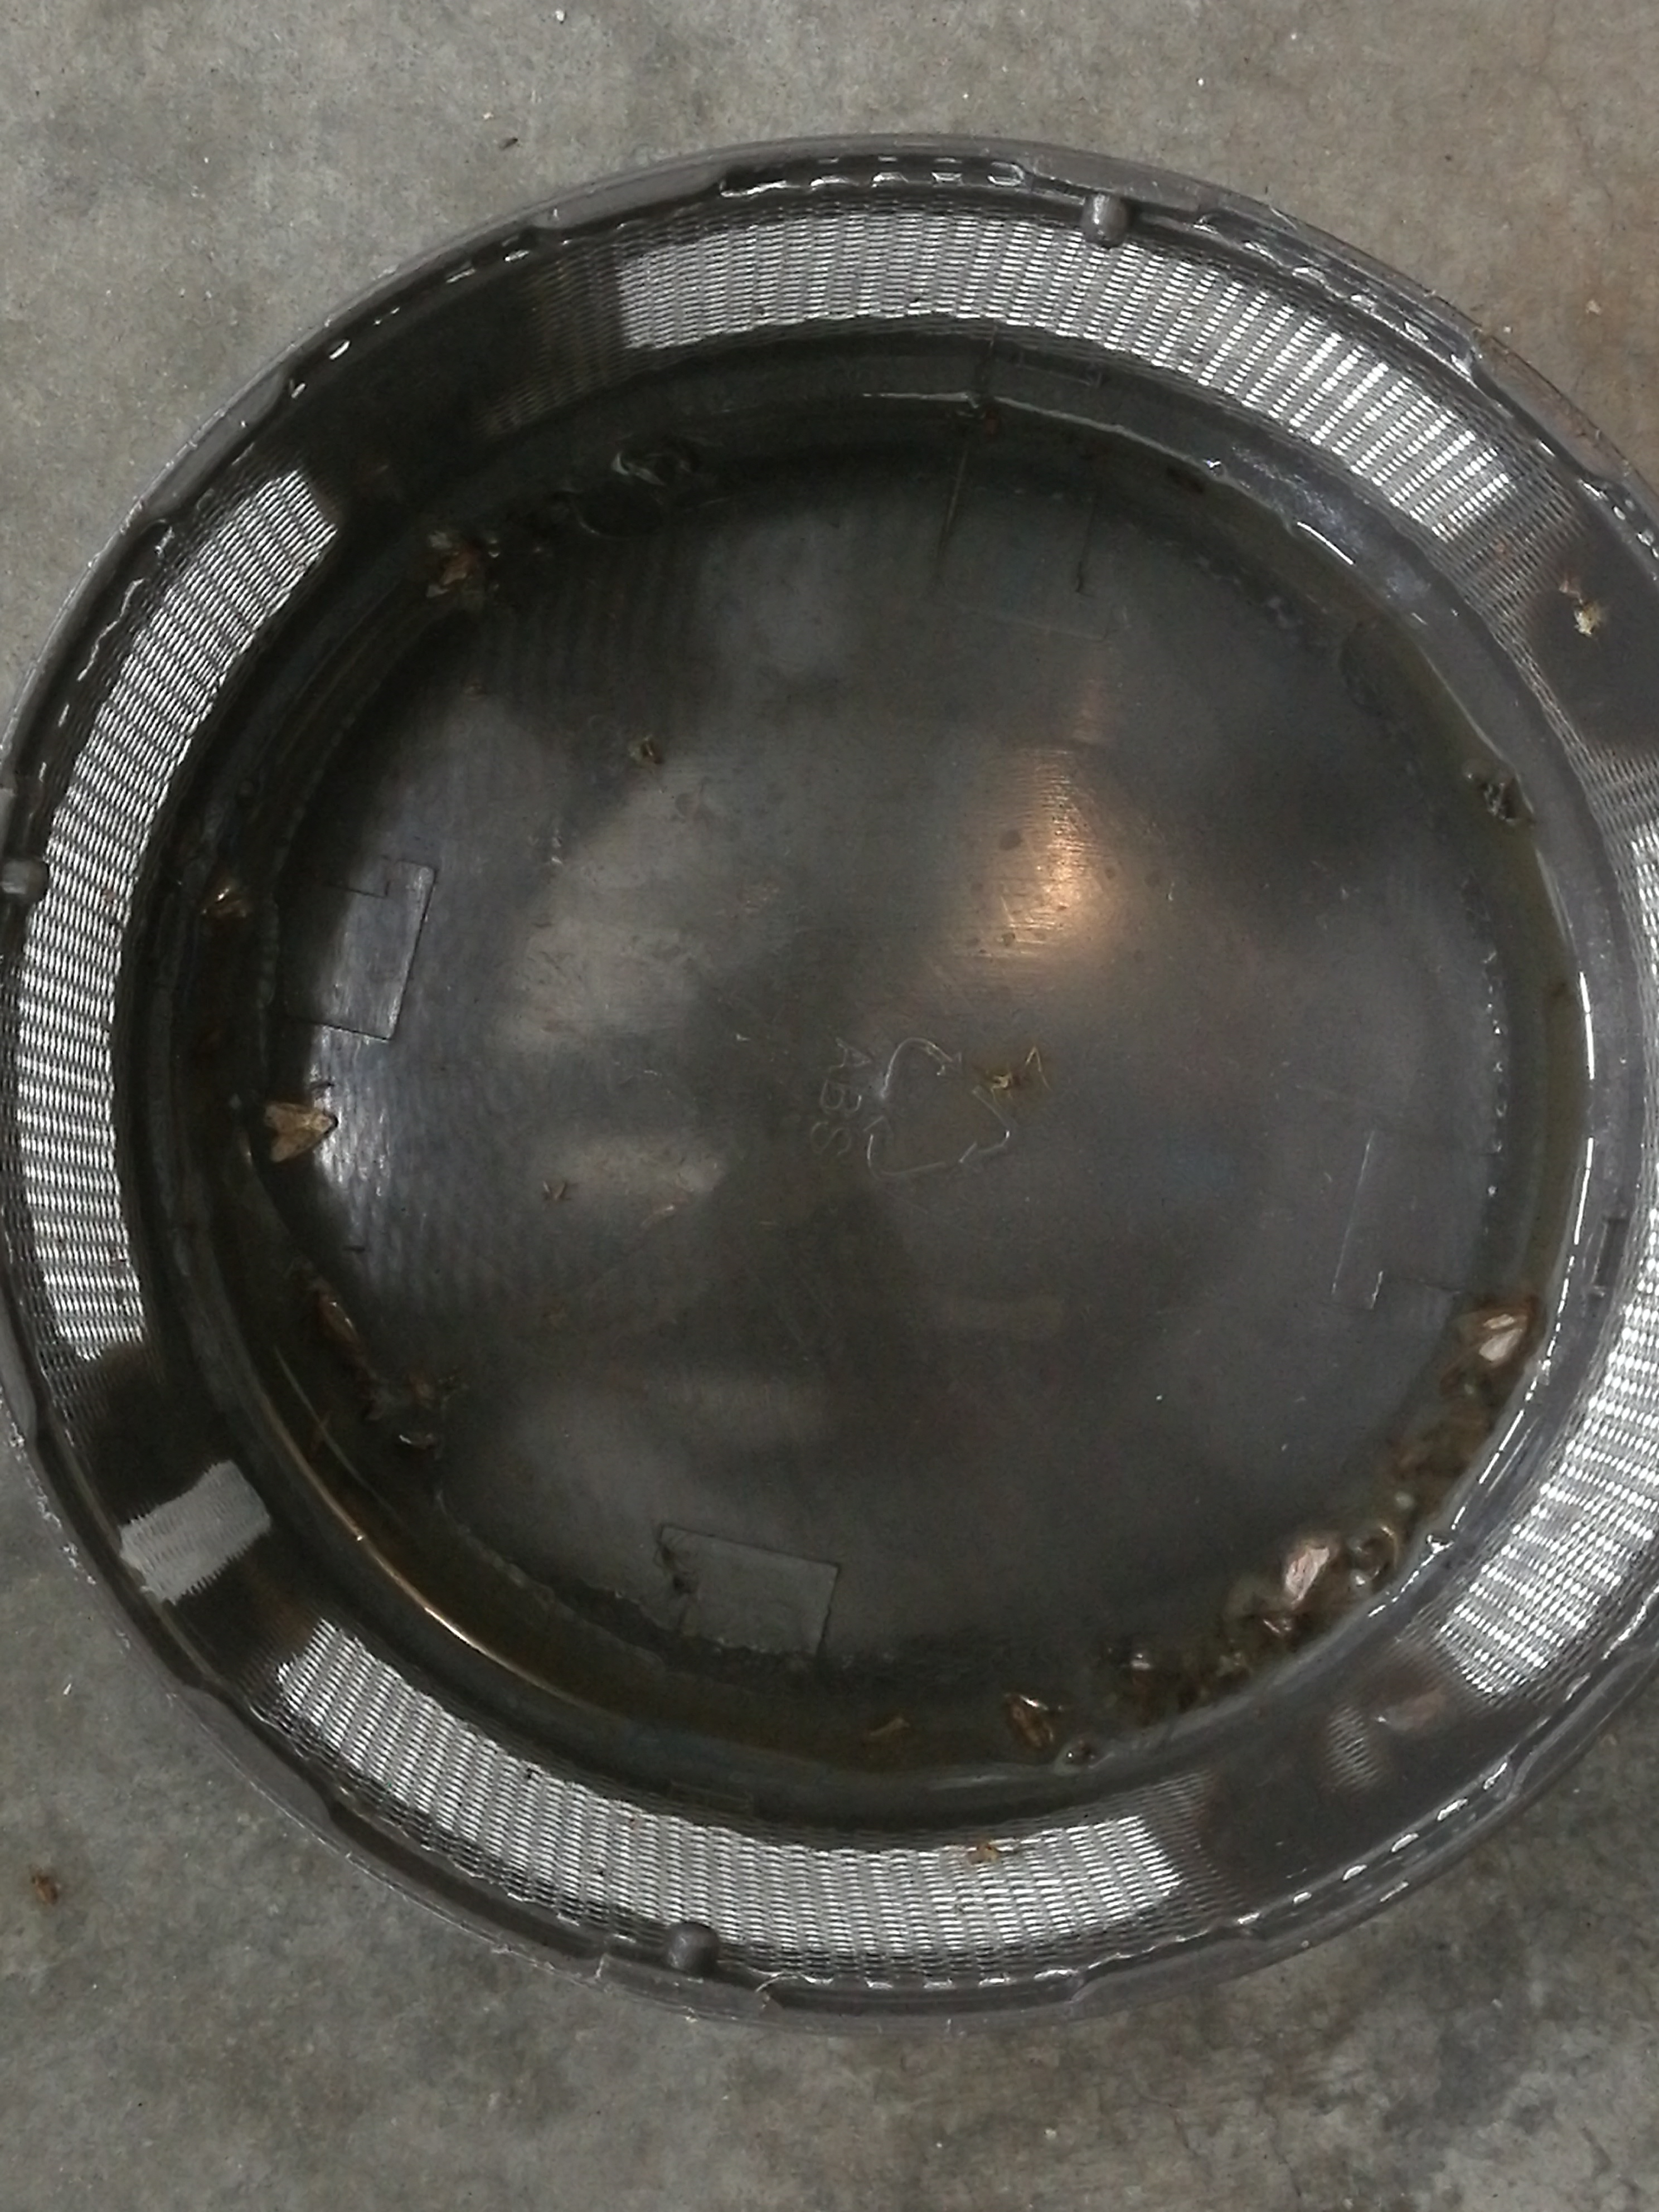moth: (1455, 1303, 1532, 1366), (425, 533, 484, 613), (263, 1101, 336, 1165)
